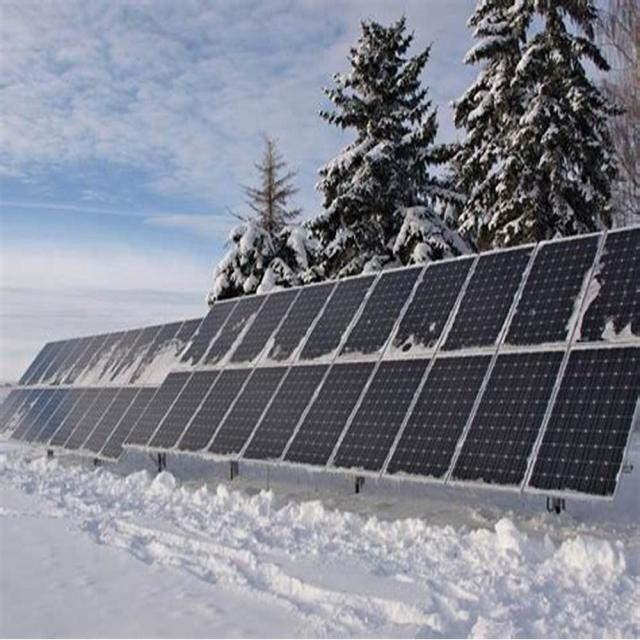Anomaly Solar Panel: (445, 233, 603, 491), (381, 244, 536, 482), (328, 256, 476, 475), (525, 227, 639, 501), (279, 264, 426, 469), (238, 272, 380, 462), (202, 281, 338, 457), (174, 287, 300, 454), (146, 293, 269, 451), (123, 298, 240, 448), (97, 318, 205, 462), (79, 322, 184, 457), (62, 325, 163, 453), (0, 333, 108, 444), (47, 327, 145, 449), (32, 331, 126, 446)
Snow: (27, 317, 640, 391), (562, 247, 609, 341)
